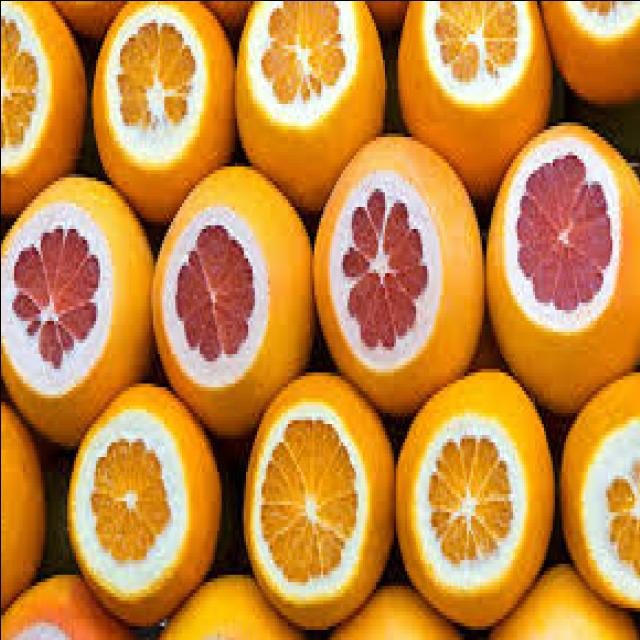orange: (248, 366, 382, 632)
